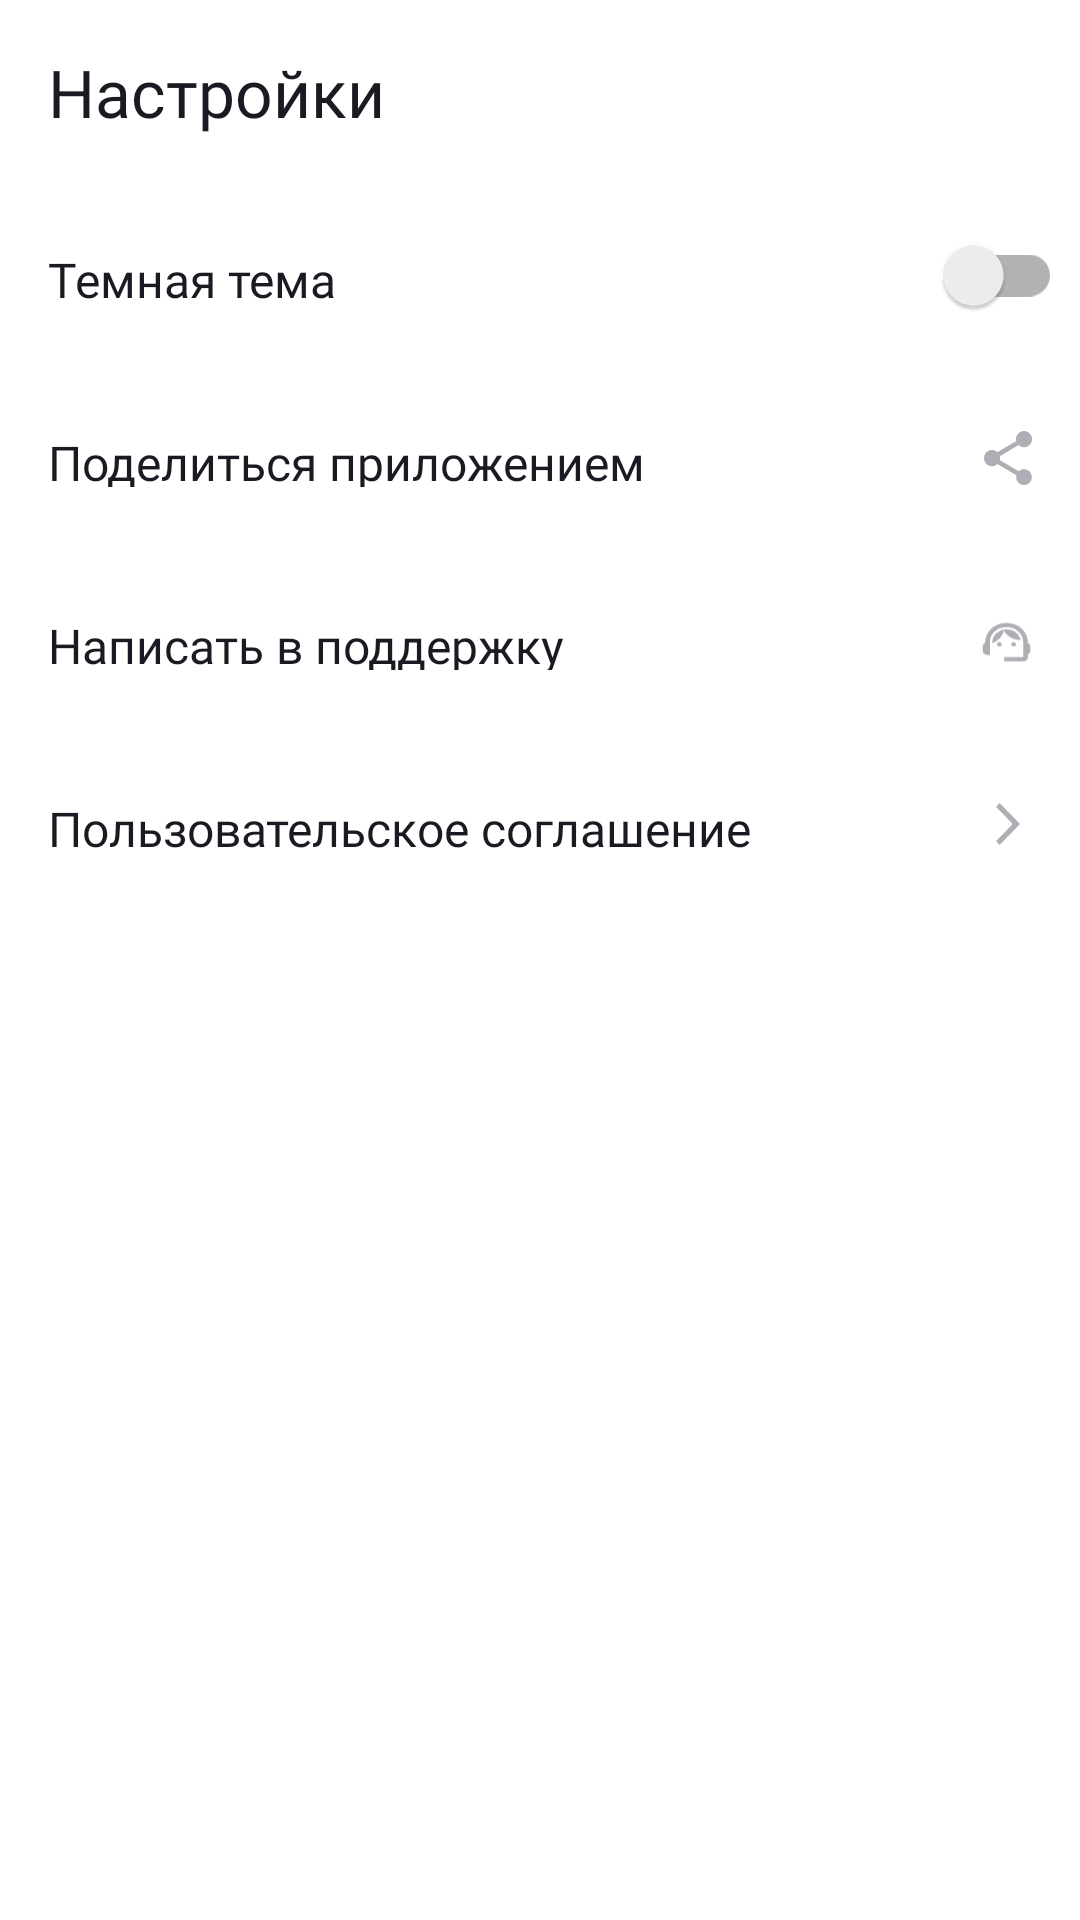

Locate icon controls on the screen. Image size 1080 x 1920, boxes as [x1, y1, x2, y2].
arrow forward: [996, 803, 1020, 845]
share: [984, 431, 1032, 485]
support composite: [983, 623, 1030, 662]
